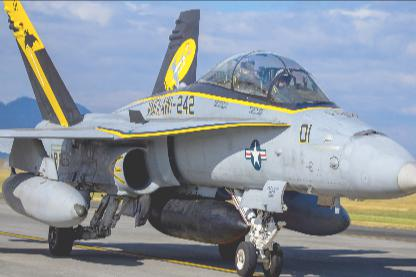F15: (0, 0, 415, 275)
